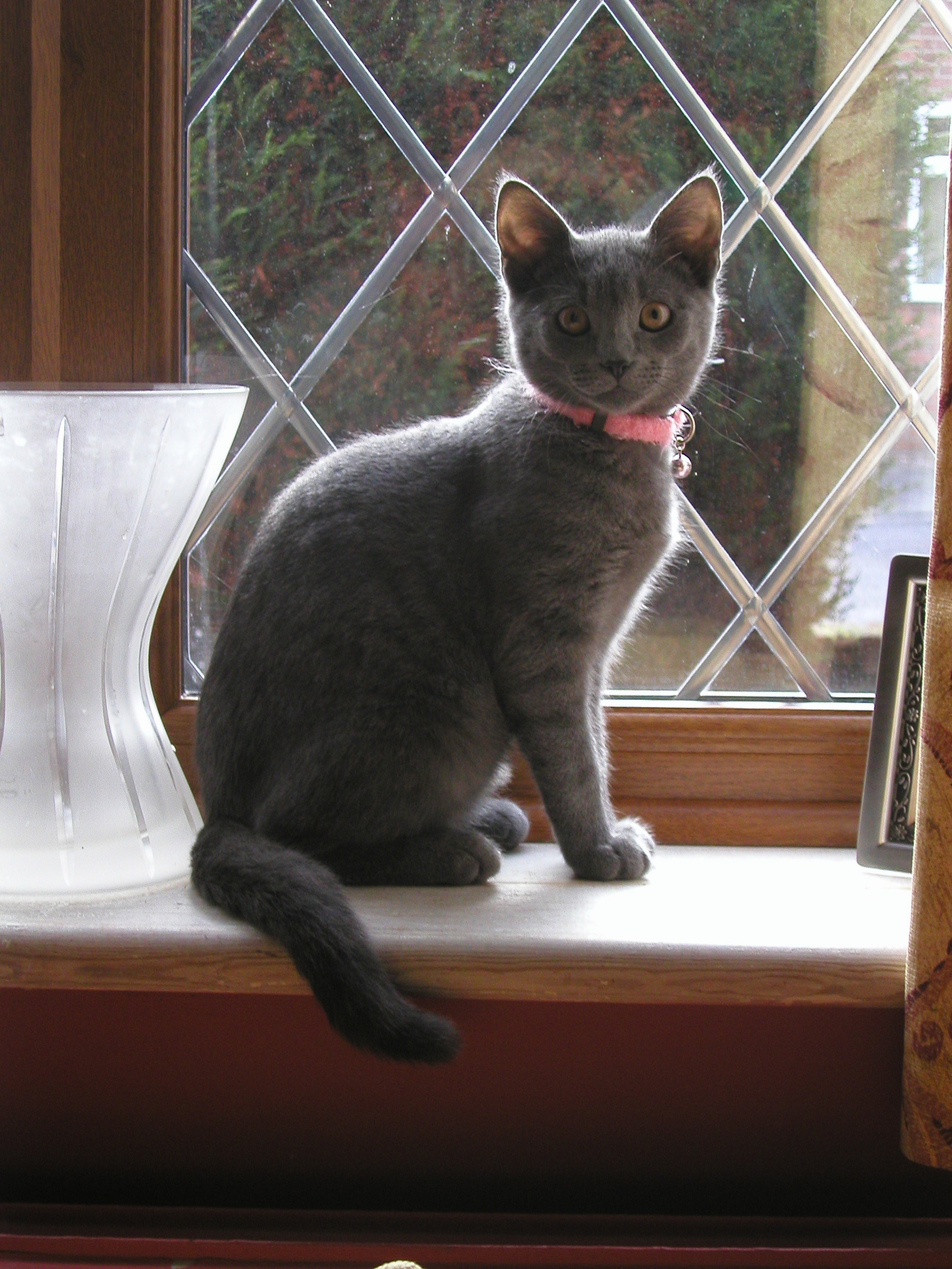cat: (177, 167, 756, 1075)
